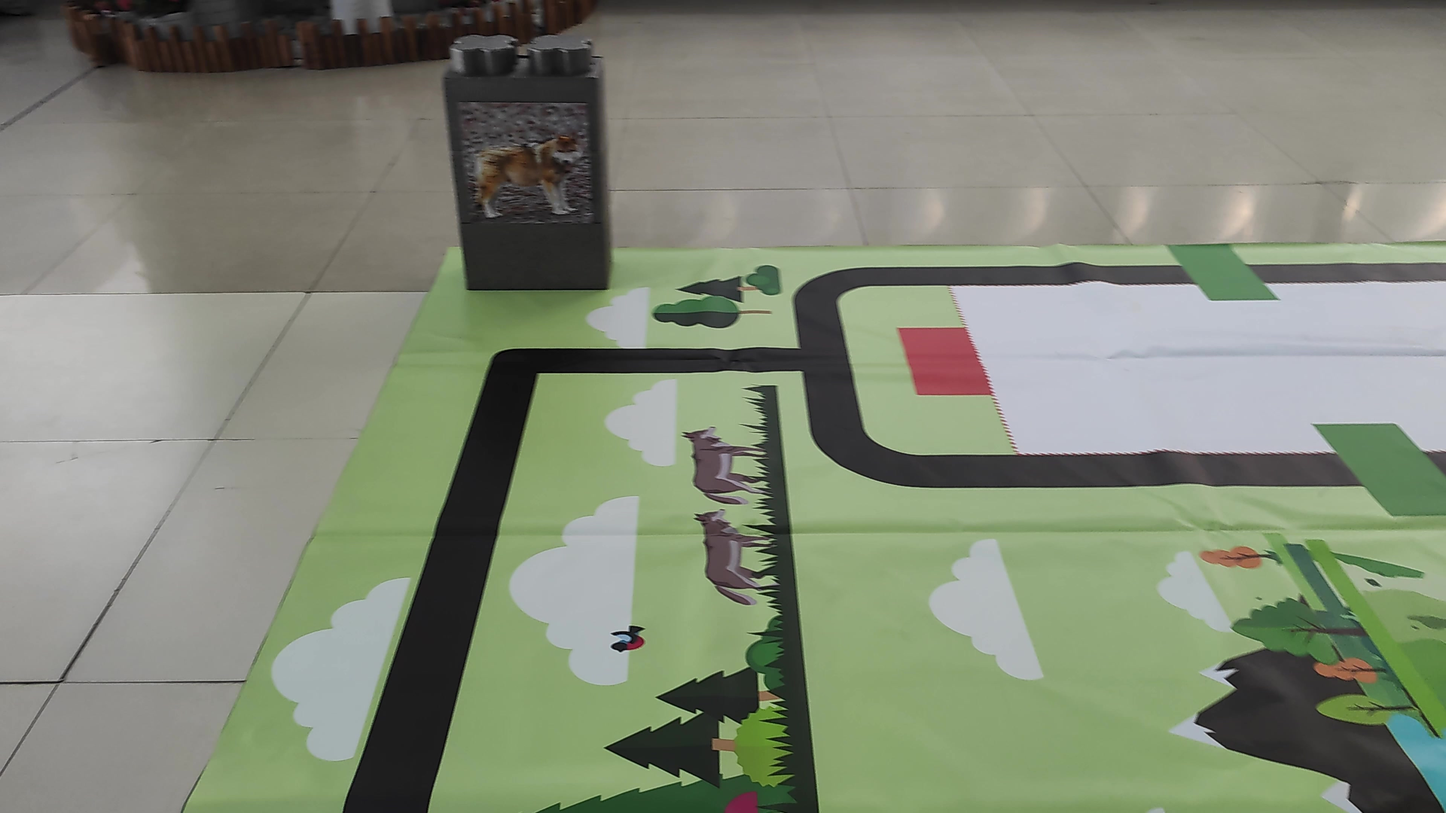wolf: (452, 101, 589, 219)
